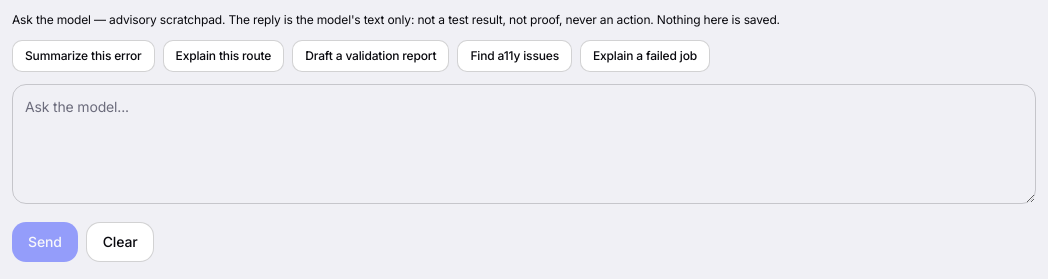
Test: F4 scratchpad Clear/unmount abort the in-flight turn › unmount aborts the request
In the text box named "prompt": (524, 144) [12,84,1036,204], type "hello"
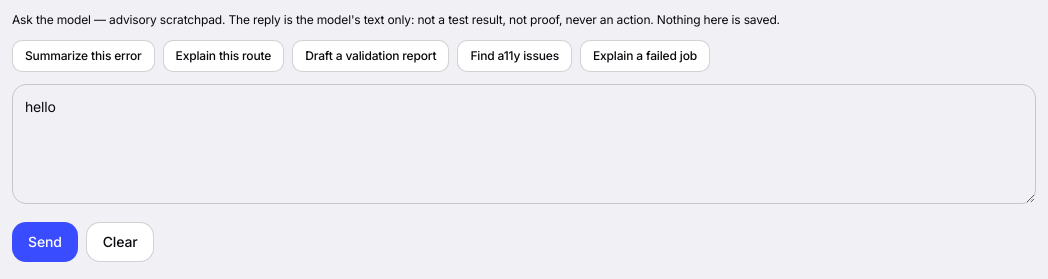
Click the button "Send": (45, 242) [12,222,78,262]
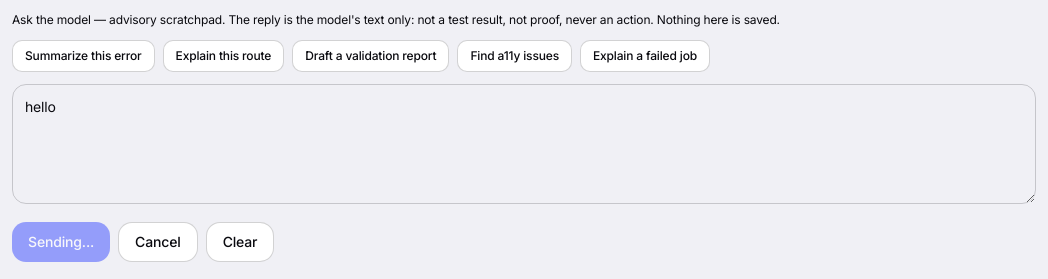
Check: the button "Cancel" is shown, box [118,222,198,262]
